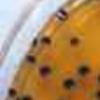black: (36, 64, 51, 80), (62, 75, 77, 91), (76, 64, 92, 78), (69, 35, 81, 48), (56, 8, 69, 20), (23, 54, 37, 65), (40, 35, 51, 46), (16, 94, 33, 100), (8, 87, 16, 99), (95, 87, 100, 98), (96, 72, 100, 82), (32, 38, 36, 45)
